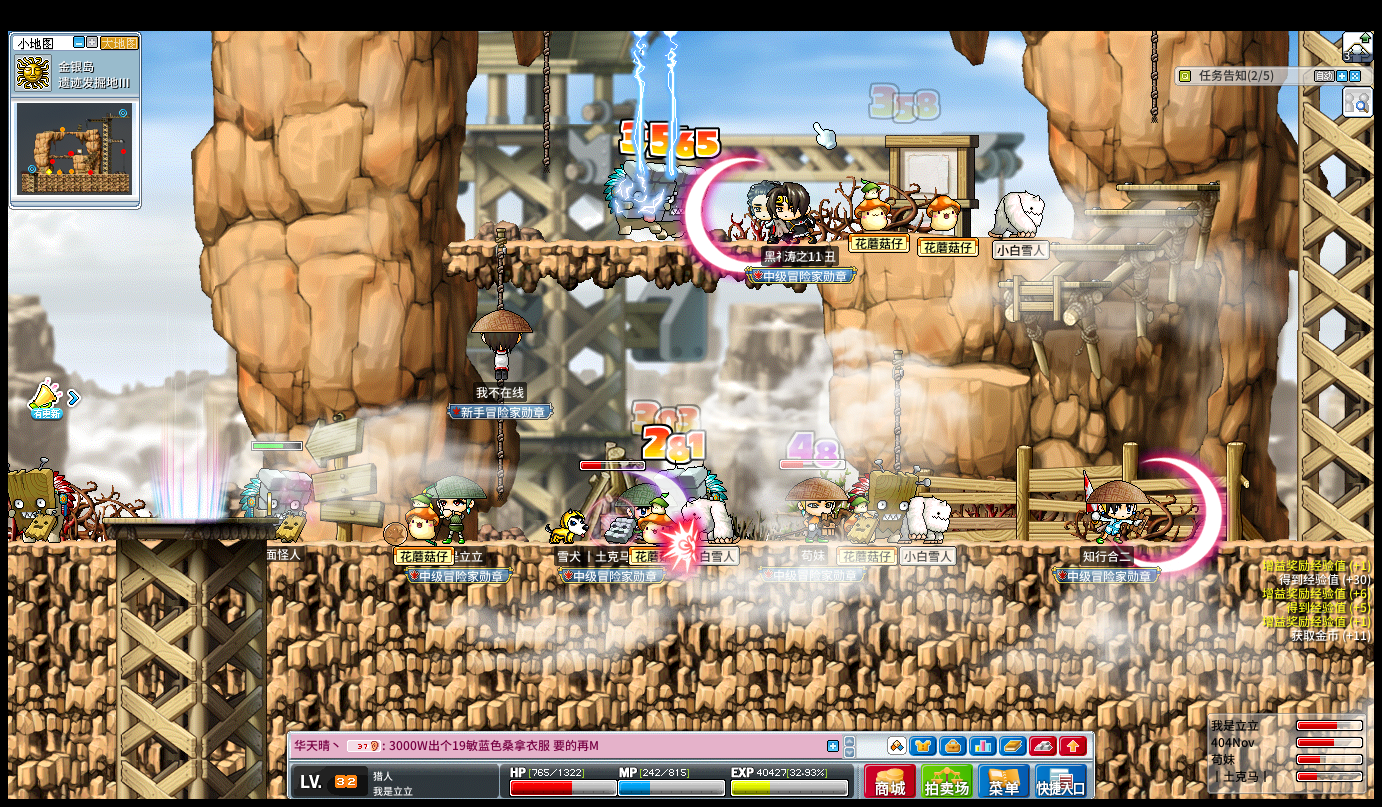floor: (266, 538, 1373, 551), (446, 237, 829, 249), (851, 460, 933, 496), (924, 363, 1032, 386), (100, 515, 267, 525), (996, 279, 1111, 290), (6, 540, 115, 551), (1081, 207, 1194, 216), (1049, 243, 1158, 252), (1116, 183, 1221, 191)
monster: (601, 160, 681, 239), (6, 459, 73, 542), (240, 468, 312, 516)
rope: (889, 351, 902, 471), (542, 30, 550, 174), (492, 227, 506, 308), (1148, 30, 1157, 124), (492, 422, 502, 498)
